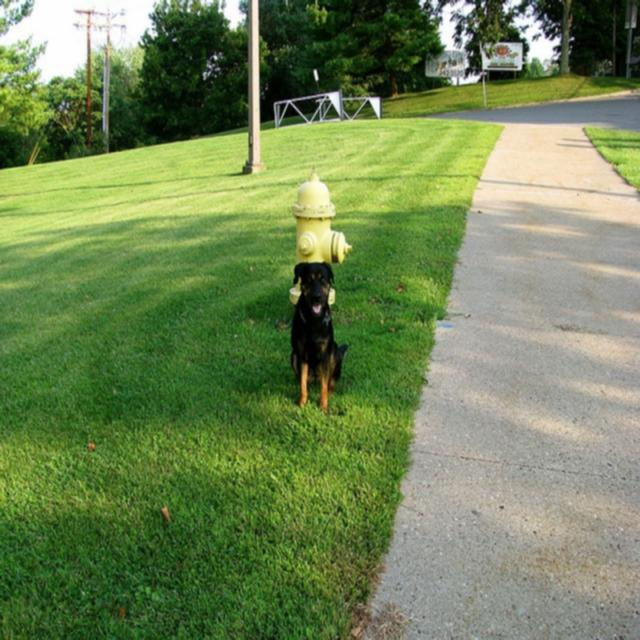dog: (289, 257, 348, 408)
fire_hydrant: (287, 163, 351, 304)
pole: (241, 0, 266, 173)
